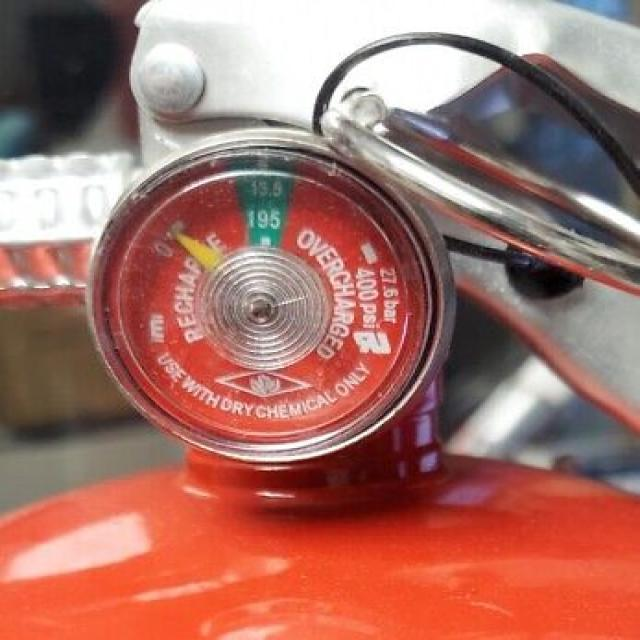pressure gauge: (89, 130, 450, 462)
